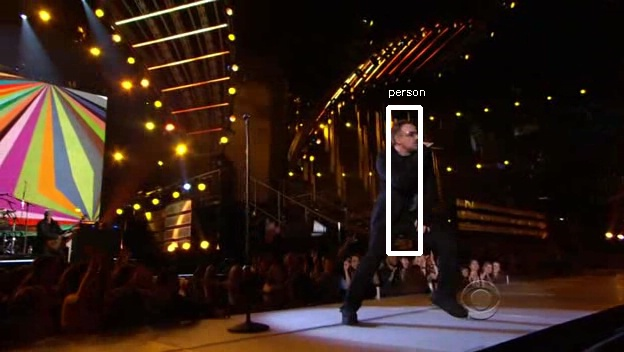person: (376, 125, 449, 255), (373, 125, 446, 255), (379, 125, 452, 255), (376, 122, 449, 252), (376, 128, 449, 258)
target_negative: (217, 15, 398, 311), (288, 284, 554, 312), (550, 146, 590, 263), (121, 271, 208, 299), (12, 341, 172, 352), (458, 252, 506, 271)
